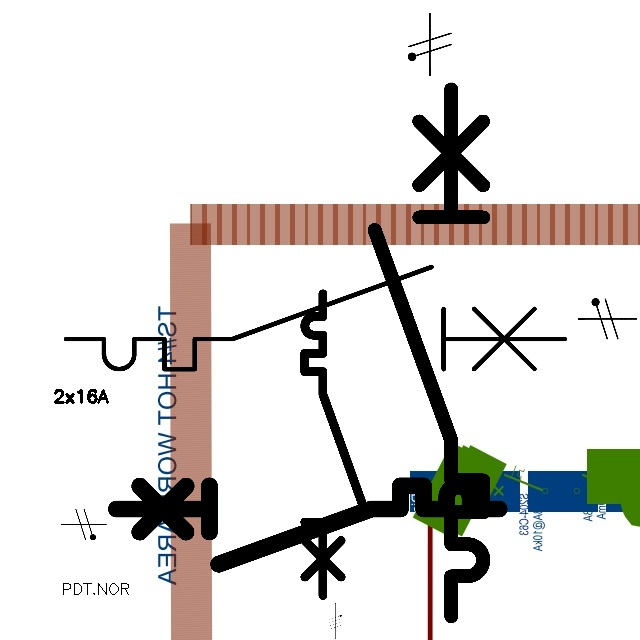interruptor_termomagnetico: (361, 75, 497, 629), (53, 254, 577, 382), (106, 476, 508, 574), (297, 286, 374, 603)
